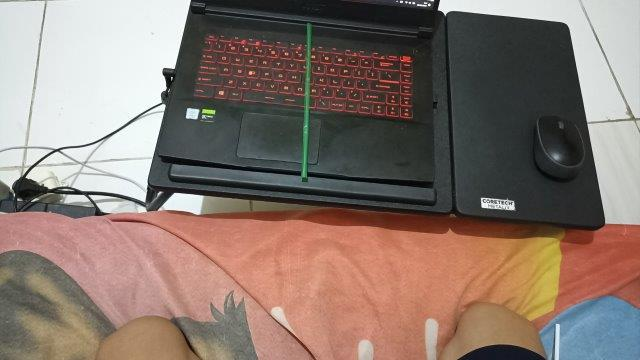sedotan: (301, 24, 312, 180)
